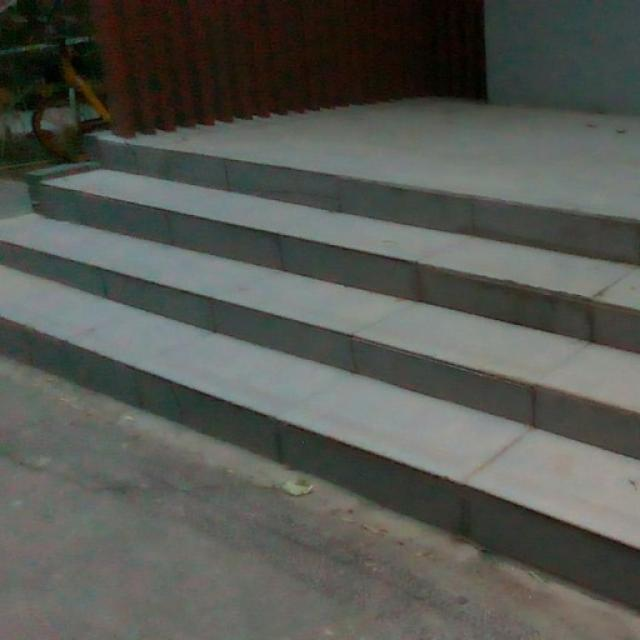stair: (18, 130, 640, 602)
